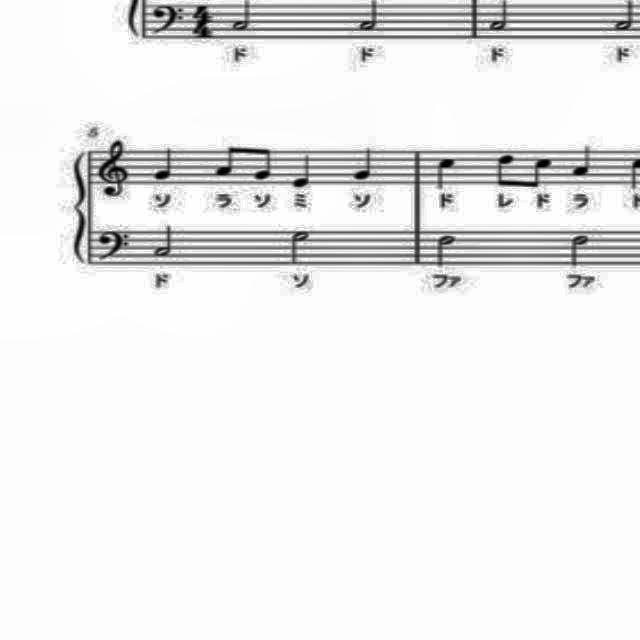Bass-clef: (92, 225, 136, 269), (144, 2, 188, 42)
Eighth-note: (213, 138, 241, 182), (492, 148, 520, 192), (250, 142, 276, 188), (526, 151, 554, 189)
Half-note: (428, 230, 464, 270), (288, 224, 320, 268), (147, 224, 179, 262), (566, 232, 594, 272)
Quarter-note: (148, 144, 184, 186), (348, 143, 380, 187), (292, 148, 320, 192), (570, 142, 600, 182), (432, 155, 460, 193)
Treble-clef: (95, 138, 139, 204)
